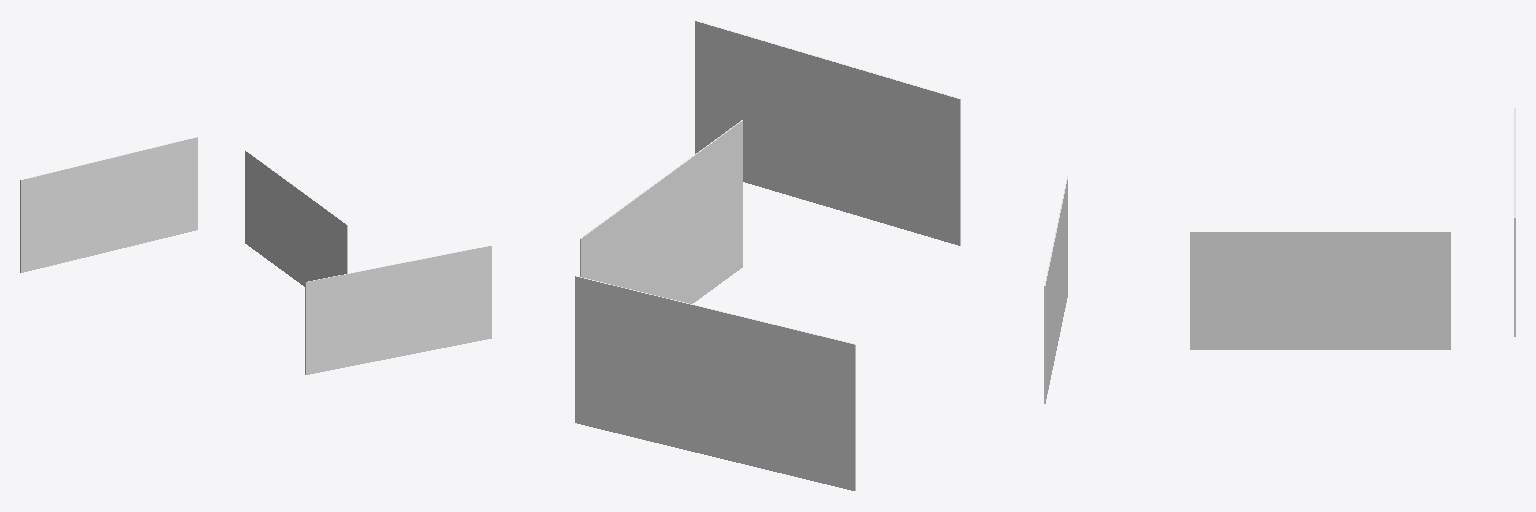
robot.urdf — Whiteboard_boards:
<?xml version="1.0" encoding="utf-8"?>
<!-- This URDF was automatically created by SolidWorks to URDF Exporter! Originally created by [author] ([email redacted]) 
     Commit Version: 1.5.1-0-g916b5db  Build Version: 1.5.7152.31018
     For more information, please see http://wiki.ros.org/sw_urdf_exporter -->
<robot
  name="Whiteboard_boards">
  <link
    name="base_link">
    <inertial>
      <origin
        xyz="4.1786329898672 -6.66501442866761 1.475"
        rpy="0 0 0" />
      <mass
        value="92.5894799999992" />
      <inertia
        ixx="27.3562509923272"
        ixy="1.3513331049184"
        ixz="1.26291683320031E-13"
        iyy="42.6838327326723"
        iyz="-1.54165454869996E-14"
        izz="46.6936463429997" />
    </inertial>
    <visual>
      <origin
        xyz="0 0 0"
        rpy="0 0 0" />
      <geometry>
        <mesh
          filename="package://Whiteboard_boards/meshes/base_link.STL" />
      </geometry>
      <material
        name="">
        <color
          rgba="1 1 1 1" />
      </material>
    </visual>
    <collision>
      <origin
        xyz="0 0 0"
        rpy="0 0 0" />
      <geometry>
        <mesh
          filename="package://Whiteboard_boards/meshes/base_link.STL" />
      </geometry>
    </collision>
  </link>
</robot>

--- Render facts (derived) ---
3 views of the same robot in one strip: view 1: azimuth 30°, elevation 25°; view 2: azimuth 150°, elevation 25°; view 3: azimuth 270°, elevation 25° (orthographic).
Model Whiteboard_boards with 1 links and 0 joints (none), rooted at base_link, posed every joint at zero.
Visible links, largest first — view 1: base_link; view 2: base_link; view 3: base_link.
Boxes of the visible links, bbox=[...] form: base_link: bbox=[20, 137, 491, 374]; base_link: bbox=[575, 21, 960, 490]; base_link: bbox=[1044, 108, 1515, 403].
Size in the robot's own frame: 3.96 by 4.44 by 1.23 metres.
1 mesh visuals loaded from 1 distinct referenced files (1 binary STL).